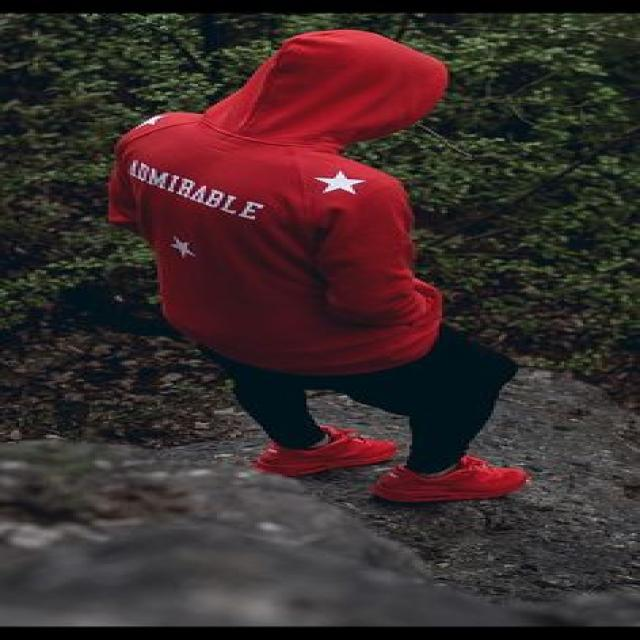4_capucha: (190, 27, 451, 154)
